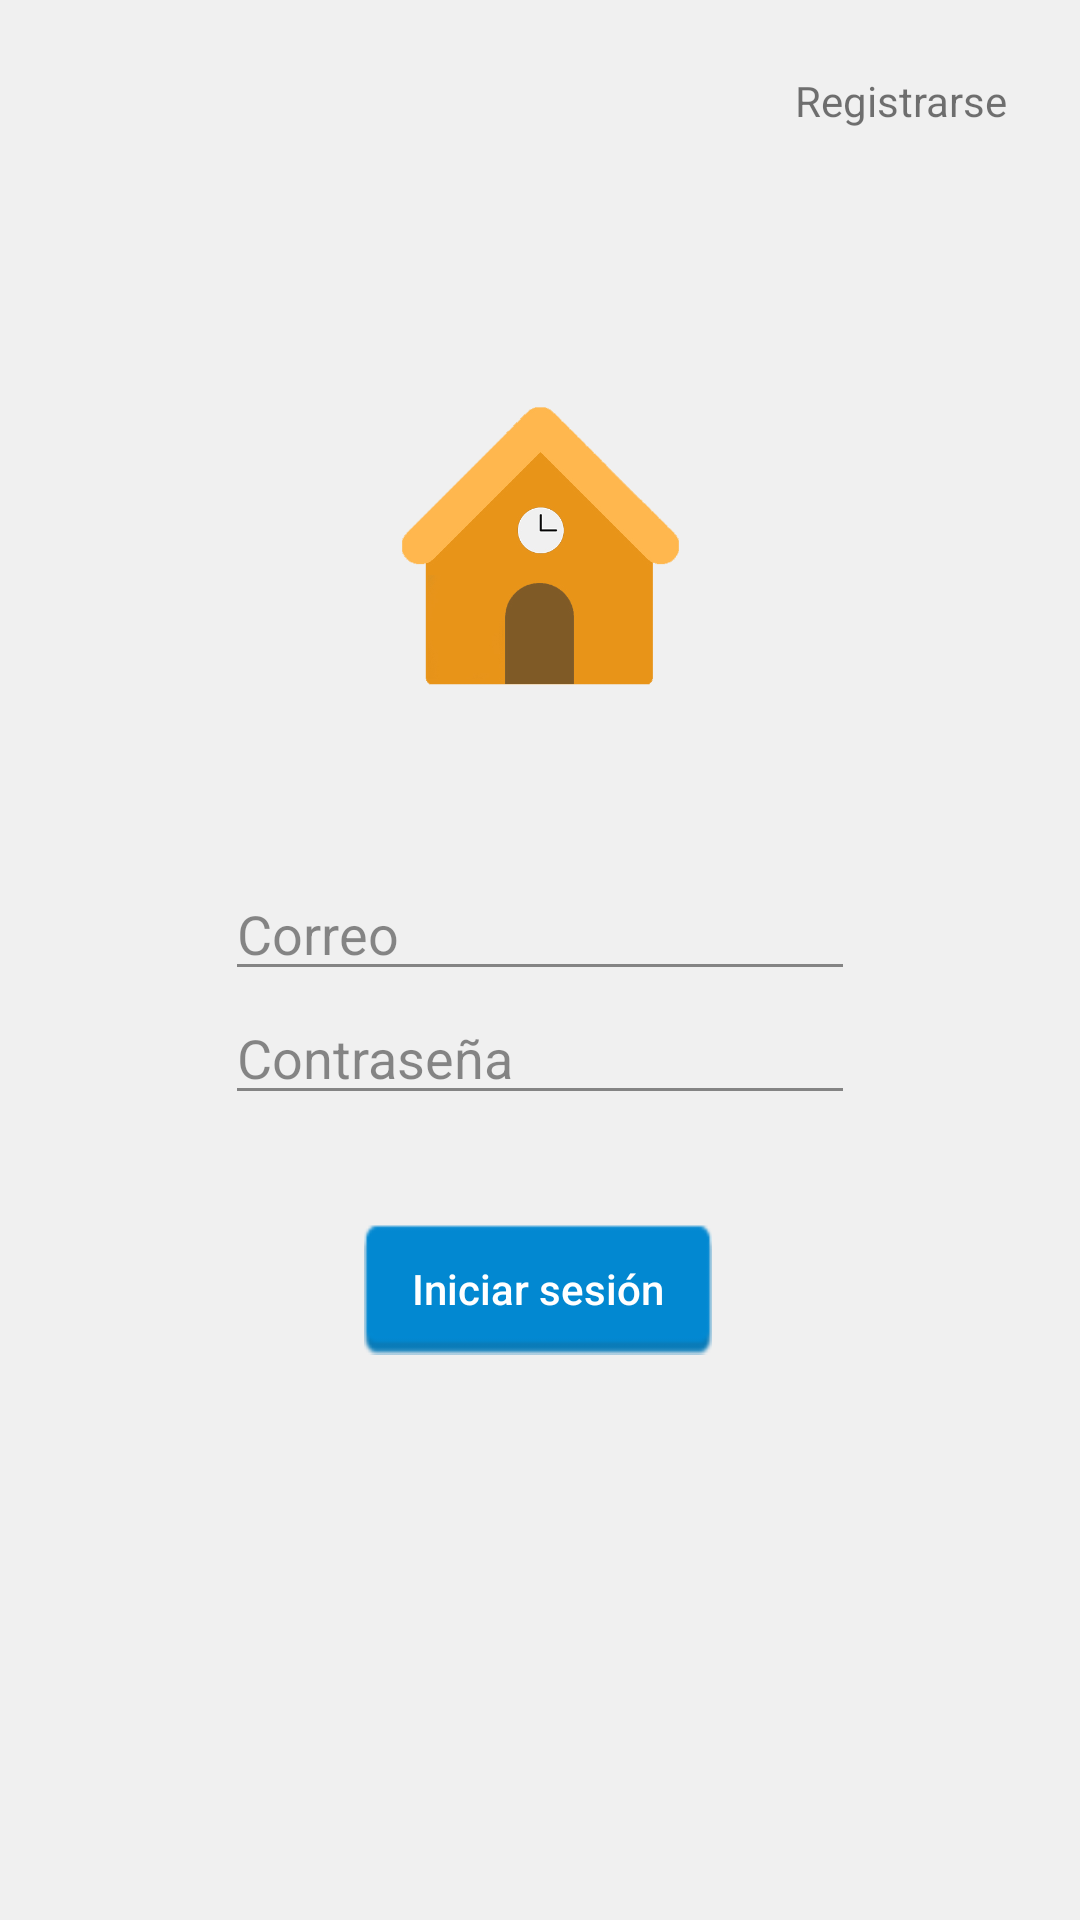

Icons on this 1080 x 1920 Android screen, each with its box as (x1, y1, x2, y2):
casa: (402, 407, 679, 685)
